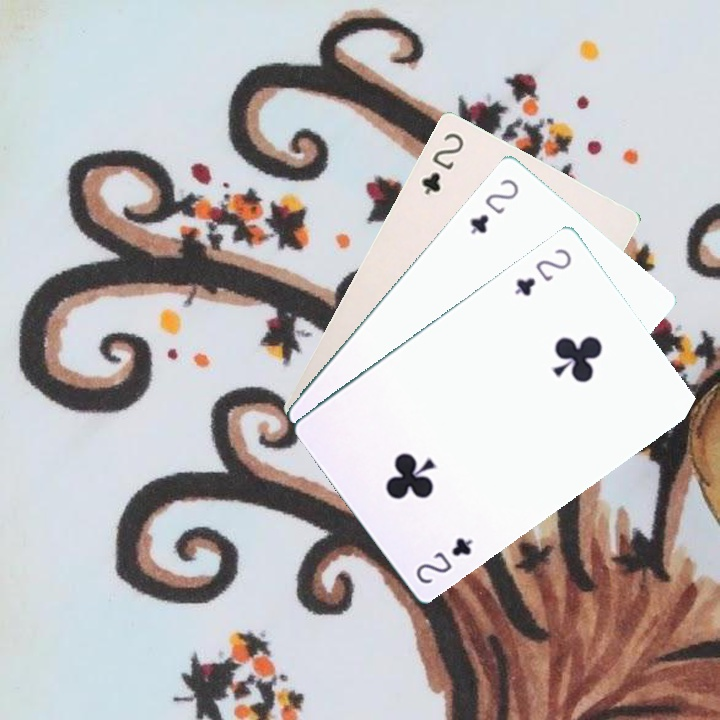2c: (465, 174, 522, 237), (510, 244, 575, 299), (411, 533, 475, 587), (417, 128, 467, 197)
